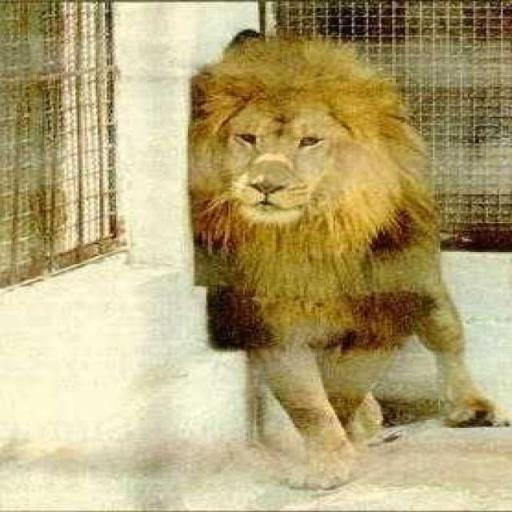Lion: (186, 26, 504, 490)
